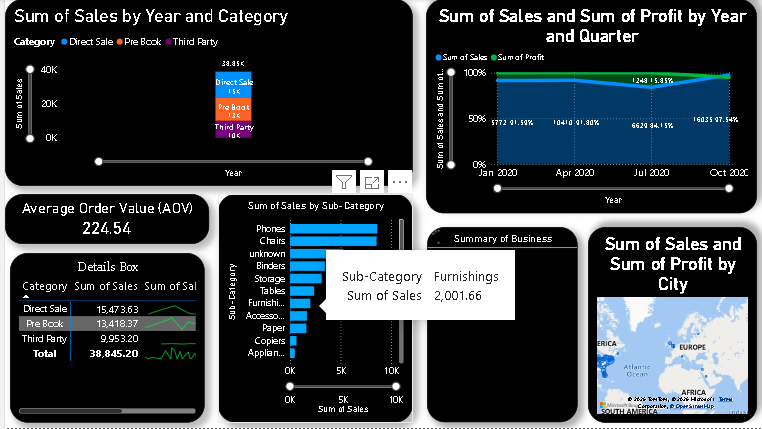

The page's visual inventory and layout, read from the dashboard file:
{"tool":"powerbi","page":{"name":"Page 1","canvas":[1280,720],"ordinal":4},"visuals":[{"type":"ribbonChart","fields":{"Category":["Sheet1.Order Date.Variation.Date Hierarchy.Year","Sheet1.Order Date.Variation.Date Hierarchy.Quarter","Sheet1.Order Date.Variation.Date Hierarchy.Month","Sheet1.Order Date.Variation.Date Hierarchy.Day"],"Y":["Sum(Sheet1.Sales)"],"Series":["Sheet1.Category"]},"box":[0,0,685.4,314.1],"z":0},{"type":"hundredPercentStackedAreaChart","fields":{"Category":["Sheet1.Order Date.Variation.Date Hierarchy.Year","Sheet1.Order Date.Variation.Date Hierarchy.Quarter","Sheet1.Order Date.Variation.Date Hierarchy.Month","Sheet1.Order Date.Variation.Date Hierarchy.Day"],"Y":["Sum(Sheet1.Sales)","Sum(Sheet1.Profit)"]},"box":[708,0,556,360],"z":1000},{"type":"map","fields":{"Category":["Sheet1.City"],"Size":["Sum(Sheet1.Sales)"]},"box":[978.6,382.9,284.3,328.6],"z":2000},{"type":"card","title":"Average Order Value (AOV)","fields":{"Values":["Sheet1.AOV"]},"box":[0,327.6,342.7,84],"z":3000},{"type":"textbox","title":"Summary of Business","box":[708.3,383.3,253.3,328.3],"z":4000},{"type":"pivotTable","title":"Details Box","fields":{"Rows":["Sheet1.Category"],"Values":["Sum(Sheet1.Sales)","SparklineData(Sum(Sheet1.Sales)_[Sheet1.Order Date])"]},"box":[8.3,426.7,326.7,285],"z":5000},{"type":"clusteredBarChart","fields":{"Category":["Sheet1.Sub-Category"],"Y":["Sum(Sheet1.Sales)"]},"box":[358.6,327.1,327.1,384.3],"z":6000}]}

Visuals, with their boxes in screenshot pixels (x1, y1, x2, y2), scaled from the page's 1280x720 canvas onto the 762x429 screenshot:
ribbonChart - Sheet1.Order Date.Variation.Date Hierarchy.Year x Sheet1.Order Date.Variation.Date Hierarchy.Quarter: pyautogui.locateOnScreen(0, 0, 408, 187)
hundredPercentStackedAreaChart - Sheet1.Order Date.Variation.Date Hierarchy.Year x Sheet1.Order Date.Variation.Date Hierarchy.Quarter: pyautogui.locateOnScreen(421, 0, 752, 214)
map - Sheet1.City x Sum(Sheet1.Sales): pyautogui.locateOnScreen(583, 228, 752, 424)
"Average Order Value (AOV)" card: pyautogui.locateOnScreen(0, 195, 204, 245)
"Summary of Business" textbox: pyautogui.locateOnScreen(422, 228, 572, 424)
"Details Box" pivotTable: pyautogui.locateOnScreen(5, 254, 199, 424)
clusteredBarChart - Sheet1.Sub-Category x Sum(Sheet1.Sales): pyautogui.locateOnScreen(213, 195, 408, 424)
